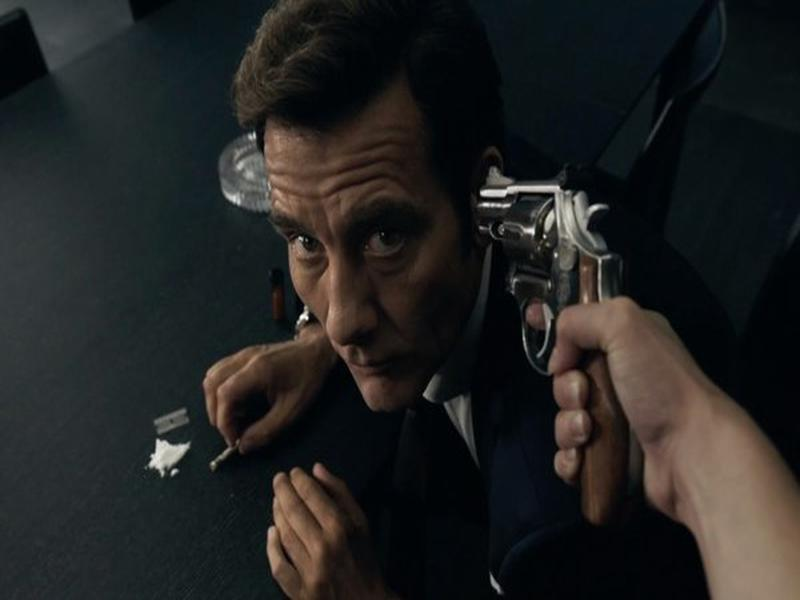Revolver: (473, 158, 647, 538)
